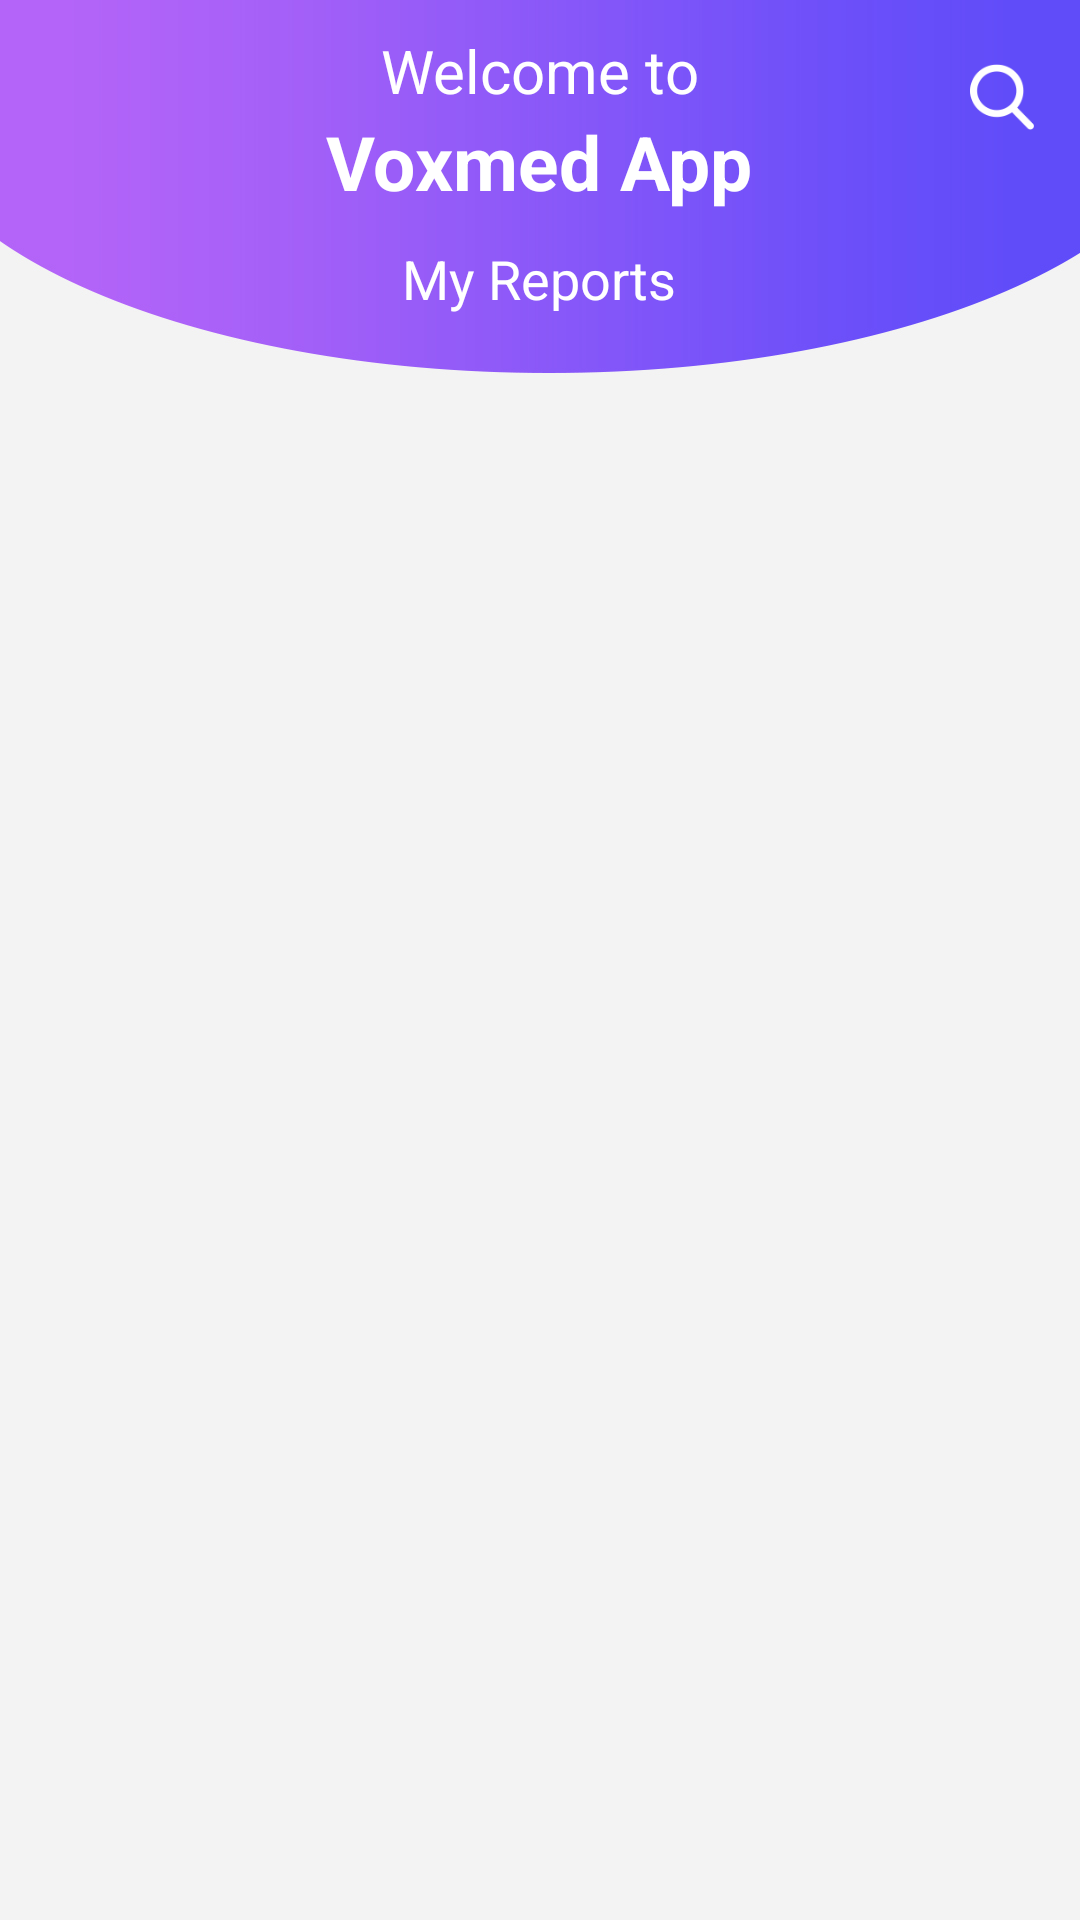

Icon click points for this 1080px×1920px phone screenshot, format point (x, y):
search: point (1002, 97)
